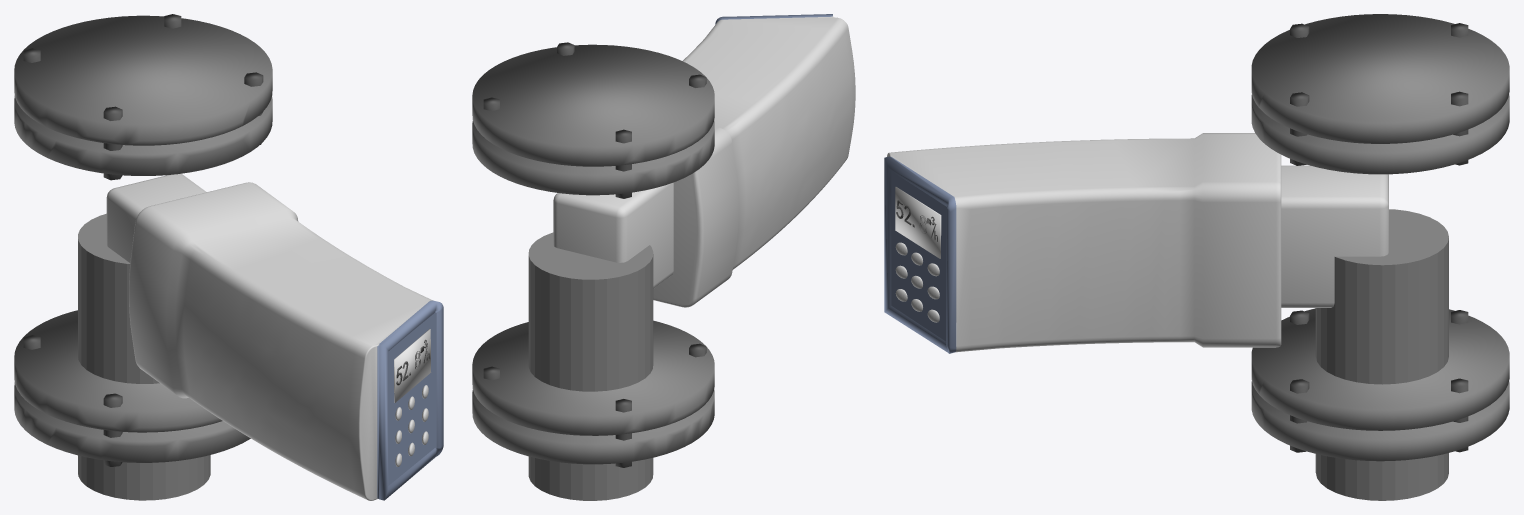
File: control-box.glb
The picture shows the model from 3 angles, left to right: view 1: azimuth 30°, elevation 25°; view 2: azimuth 150°, elevation 25°; view 3: azimuth 270°, elevation 25°; orthographic projection. The views are drawn at different scales.
Parts seen in each view (by area): view 1: Obj3d66-1060089-4305-16, Obj3d66-1060089-4297-59, Obj3d66-1060089-4298-789, Obj3d66-1060089-4294-335, Obj3d66-1060089-4299-263, Obj3d66-1060089-4293-958, Obj3d66-1060089-4306-265, Obj3d66-1060089-4312-393, Obj3d66-1060089-4313-670; view 2: Obj3d66-1060089-4305-16, Obj3d66-1060089-4297-59, Obj3d66-1060089-4298-789, Obj3d66-1060089-4294-335, Obj3d66-1060089-4293-958; view 3: Obj3d66-1060089-4305-16, Obj3d66-1060089-4297-59, Obj3d66-1060089-4298-789, Obj3d66-1060089-4294-335, Obj3d66-1060089-4293-958, Obj3d66-1060089-4299-263, Obj3d66-1060089-4306-265.
Boxes of the visible parts, x1,y1,x2,y2 form: Obj3d66-1060089-4305-16: [129, 182, 443, 500]; Obj3d66-1060089-4297-59: [14, 15, 272, 175]; Obj3d66-1060089-4298-789: [14, 310, 250, 462]; Obj3d66-1060089-4294-335: [78, 213, 210, 500]; Obj3d66-1060089-4299-263: [388, 312, 436, 485]; Obj3d66-1060089-4293-958: [106, 173, 206, 262]; Obj3d66-1060089-4306-265: [394, 329, 431, 402]; Obj3d66-1060089-4312-393: [103, 106, 122, 180]; Obj3d66-1060089-4313-670: [103, 393, 122, 466]; Obj3d66-1060089-4305-16: [653, 14, 855, 307]; Obj3d66-1060089-4297-59: [472, 44, 714, 195]; Obj3d66-1060089-4298-789: [472, 320, 714, 464]; Obj3d66-1060089-4294-335: [528, 232, 653, 500]; Obj3d66-1060089-4293-958: [553, 182, 673, 288]; Obj3d66-1060089-4305-16: [884, 133, 1281, 353]; Obj3d66-1060089-4297-59: [1251, 14, 1509, 174]; Obj3d66-1060089-4298-789: [1251, 308, 1509, 461]; Obj3d66-1060089-4294-335: [1315, 209, 1448, 500]; Obj3d66-1060089-4293-958: [1281, 165, 1388, 307]; Obj3d66-1060089-4299-263: [891, 171, 946, 342]; Obj3d66-1060089-4306-265: [895, 187, 941, 258].
Size of the model in its own units: 2731 by 4778 by 6607.
